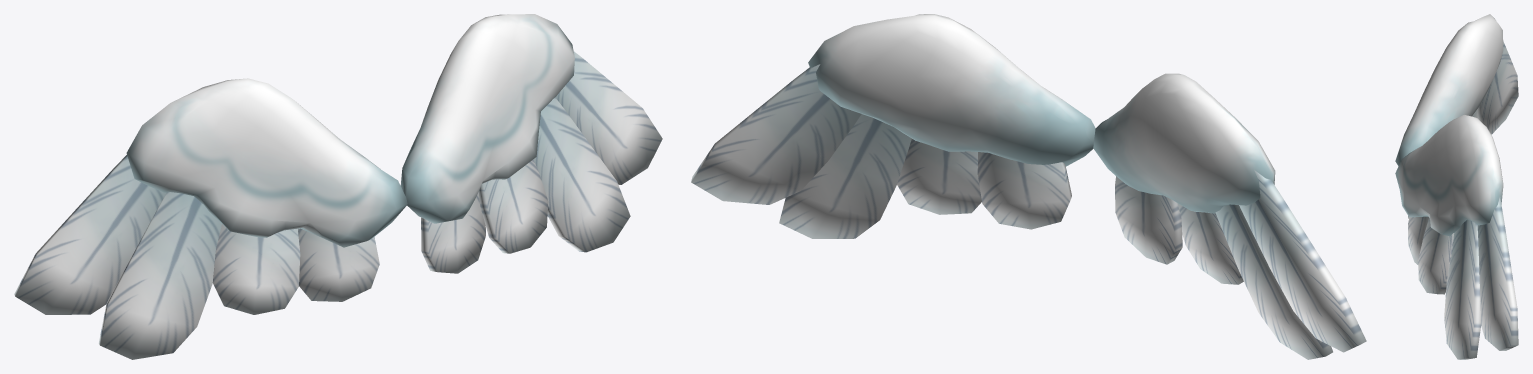
Rendered from wings.fbx.
3 views of the same model, side by side, from view 1: azimuth 30°, elevation 25°; view 2: azimuth 150°, elevation 25°; view 3: azimuth 270°, elevation 25° (orthographic). The views are drawn at different scales.
Visible parts, largest first — view 1: RetopoFlow; view 2: RetopoFlow; view 3: RetopoFlow.
Part boxes in pixels (x1,y1,x2,y2): RetopoFlow: (14, 14, 662, 359); RetopoFlow: (691, 14, 1366, 359); RetopoFlow: (1395, 14, 1518, 359).
Bounding box in the file's own units: 544 × 198 × 113.
Materials: 1 (1 with a texture image).
